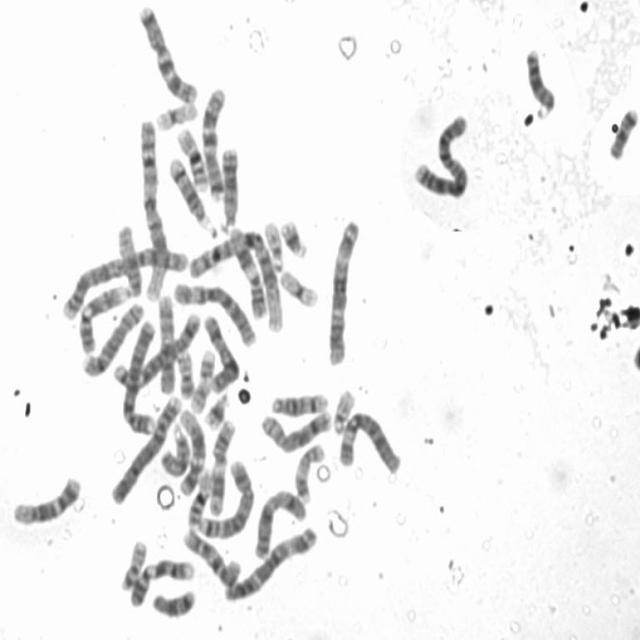A1: (182, 222, 286, 334), (136, 114, 168, 303)
A2: (56, 239, 192, 321), (410, 109, 472, 200)
A3: (219, 520, 320, 604), (324, 212, 362, 366)
B4: (106, 390, 184, 506), (120, 316, 161, 438)
B5: (110, 304, 204, 391), (195, 453, 258, 539)
C10: (178, 523, 242, 589), (155, 288, 178, 395)
C11: (228, 223, 268, 320), (208, 414, 238, 516)
C12: (8, 470, 84, 527), (175, 403, 208, 497)
C6: (170, 276, 259, 348), (334, 405, 404, 476)
C7: (135, 0, 200, 105), (198, 82, 228, 201)
C8: (78, 296, 146, 378), (256, 402, 334, 455)
C9: (76, 277, 130, 354), (125, 552, 196, 608)
D13: (521, 41, 559, 121), (218, 140, 242, 232)
D14: (164, 149, 216, 235), (267, 387, 331, 418)
D15: (114, 225, 144, 302), (158, 420, 192, 477)
E16: (174, 122, 210, 192), (184, 465, 214, 529)
E17: (291, 437, 327, 505), (187, 344, 217, 416)
E18: (605, 100, 639, 162), (148, 584, 198, 620)
F19: (276, 263, 321, 309), (152, 95, 199, 132)
F20: (116, 534, 150, 592), (172, 344, 196, 399)
G21: (276, 214, 310, 260), (201, 388, 231, 430)
G22: (329, 382, 357, 435), (260, 214, 285, 272)
X: (250, 483, 310, 561), (199, 311, 240, 393)
